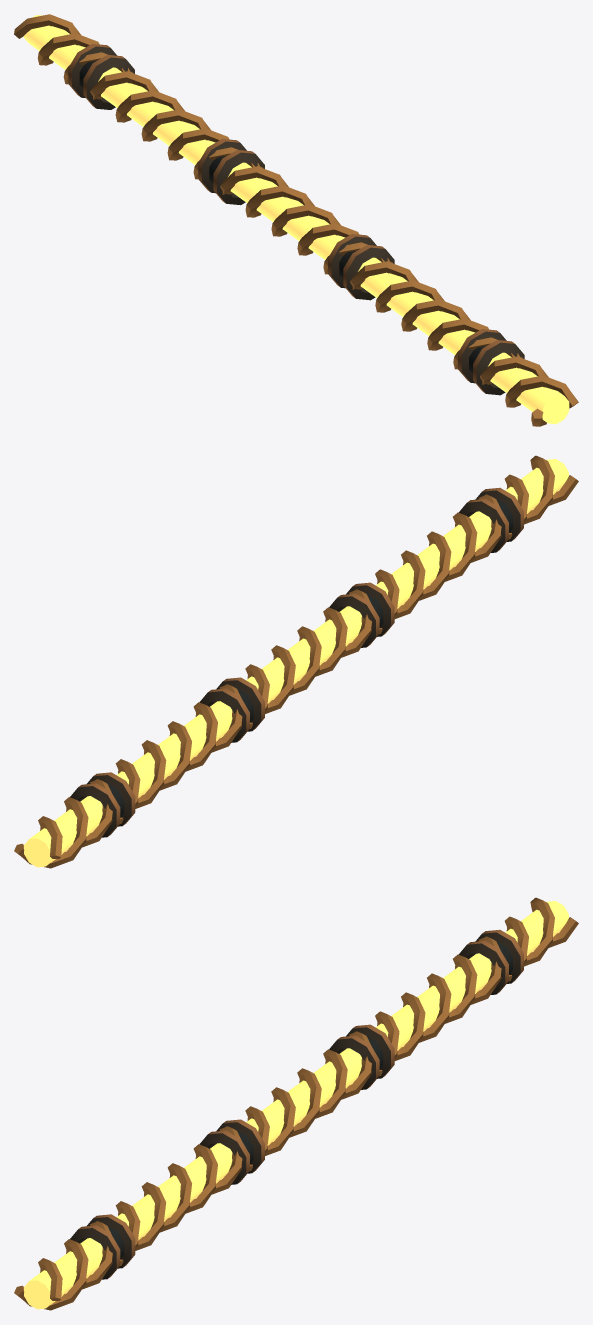
The model's file is grapple_mut_hot_wire_line.glb.
3 renders of one model, top to bottom at view 1: azimuth 30°, elevation 25°; view 2: azimuth 150°, elevation 25°; view 3: azimuth 330°, elevation 25°, orthographic.
Visible parts, largest first — view 1: Line; view 2: Line; view 3: Line.
Part boxes in pixels (<box>): Line: <box>14,14,578,426</box>; Line: <box>14,455,578,868</box>; Line: <box>14,897,578,1310</box>.
Size of the model in its own units: 0.0533 by 0.056 by 1.01.
